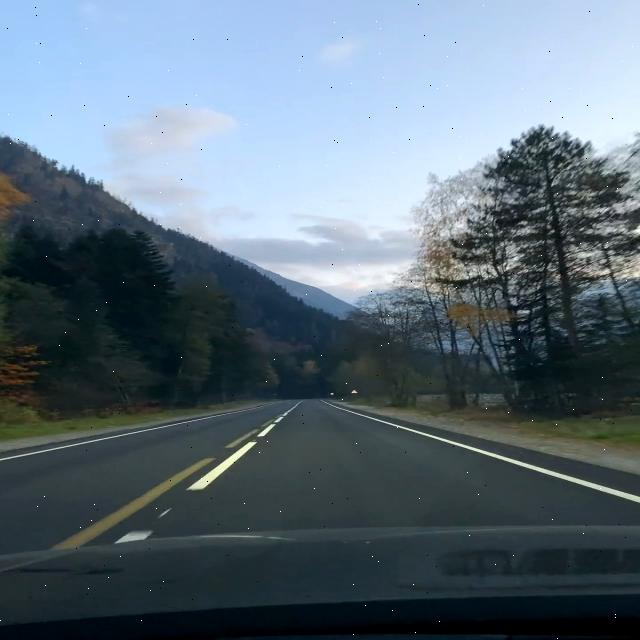lane: (322, 401, 640, 502), (187, 441, 256, 489), (258, 424, 274, 437)
road: (2, 400, 637, 554)
